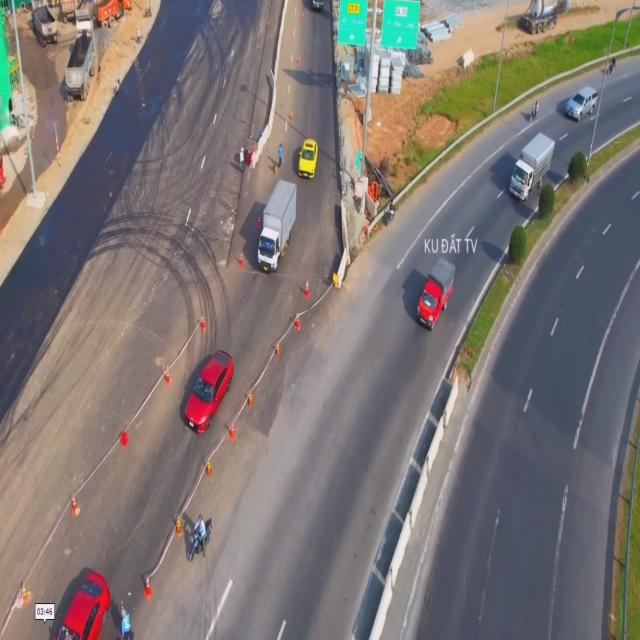car: (186, 345, 234, 434), (57, 570, 112, 640), (564, 81, 598, 122), (297, 135, 318, 179)
motorbike: (186, 514, 212, 563)
truck: (258, 174, 298, 274), (508, 131, 556, 204), (416, 254, 456, 331), (363, 14, 377, 56)
